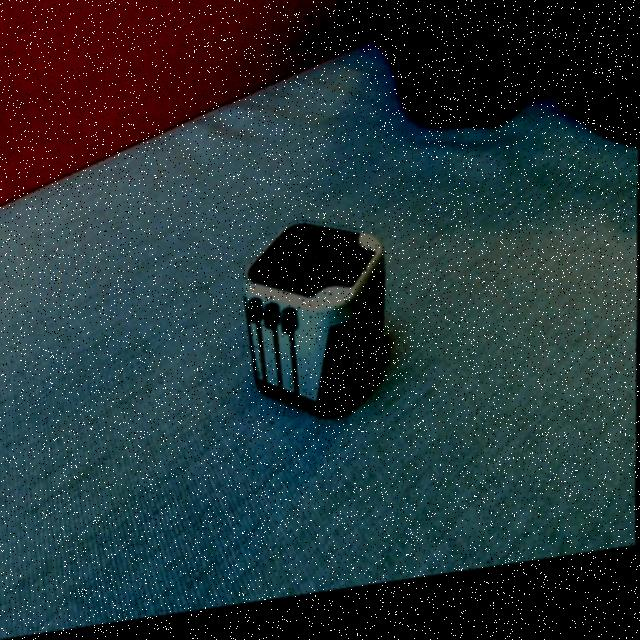adapter: (242, 220, 387, 437)
